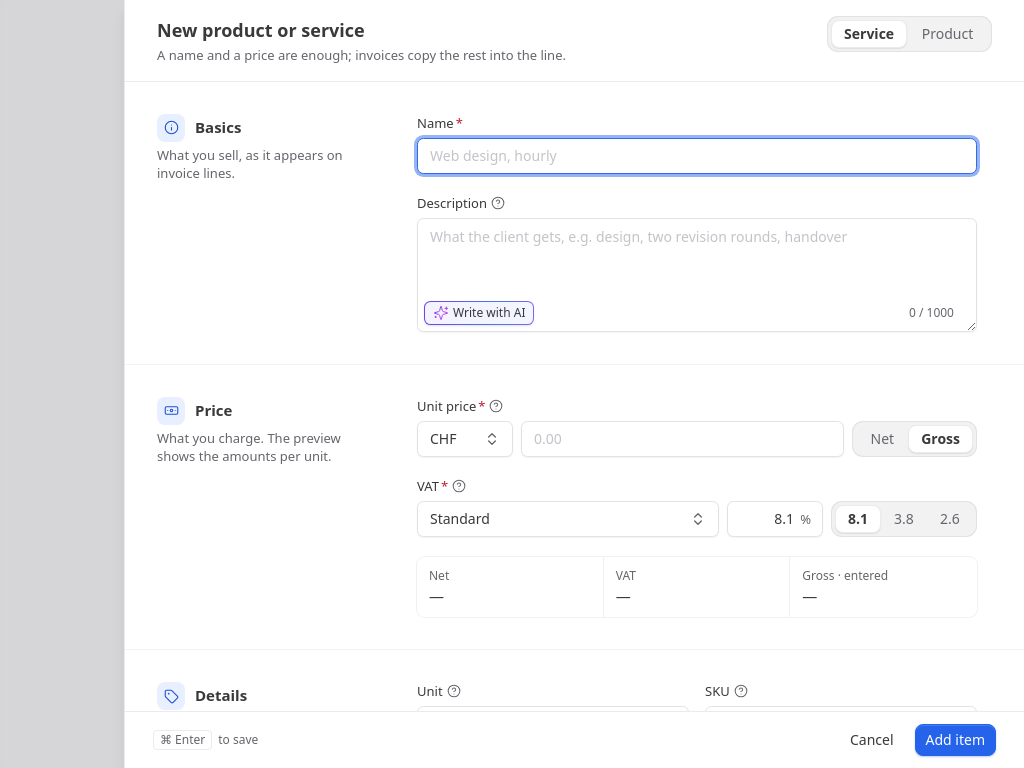
Test: a new item is priced gross: previews the net part while typing and saves with ⌘Enter
The width and height of the screenshot is (1024, 768).
Later steps or results of the test are not shown.
Type "Web design" into the field labelled "Name". click: x=697, y=156
box: [417, 138, 977, 174]
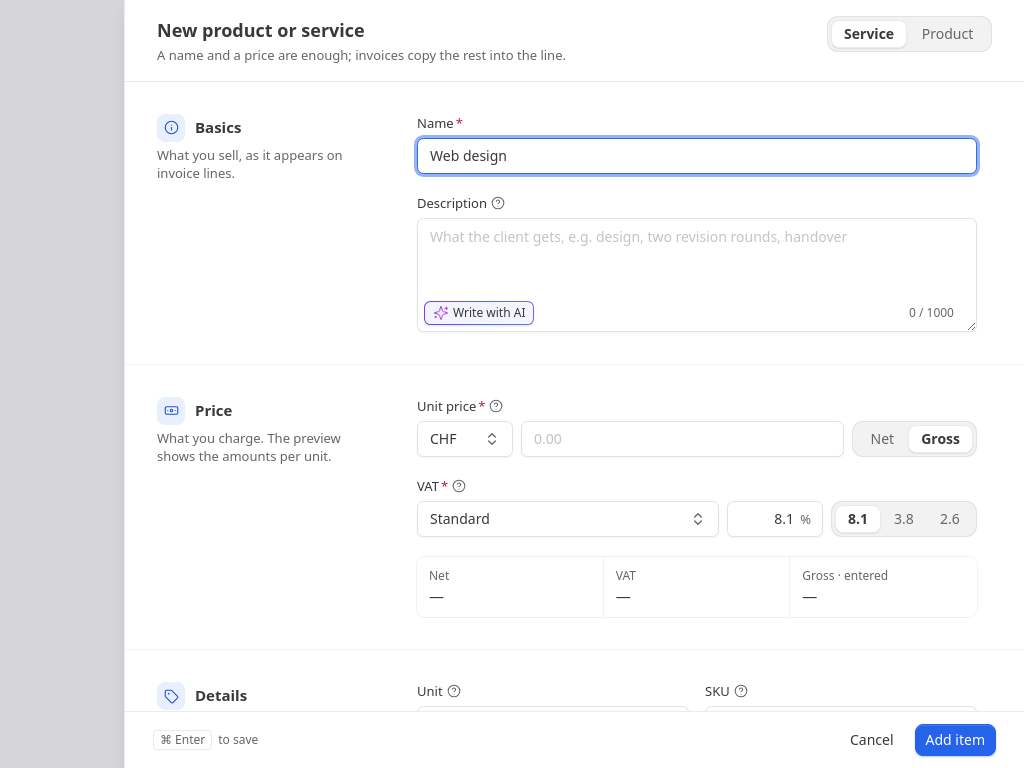
Expected: the radio button labelled "Gross" is checked, [908, 425, 973, 453]
Type "150" into the field labelled "Unit price*". click: x=683, y=439
box: [521, 421, 844, 457]
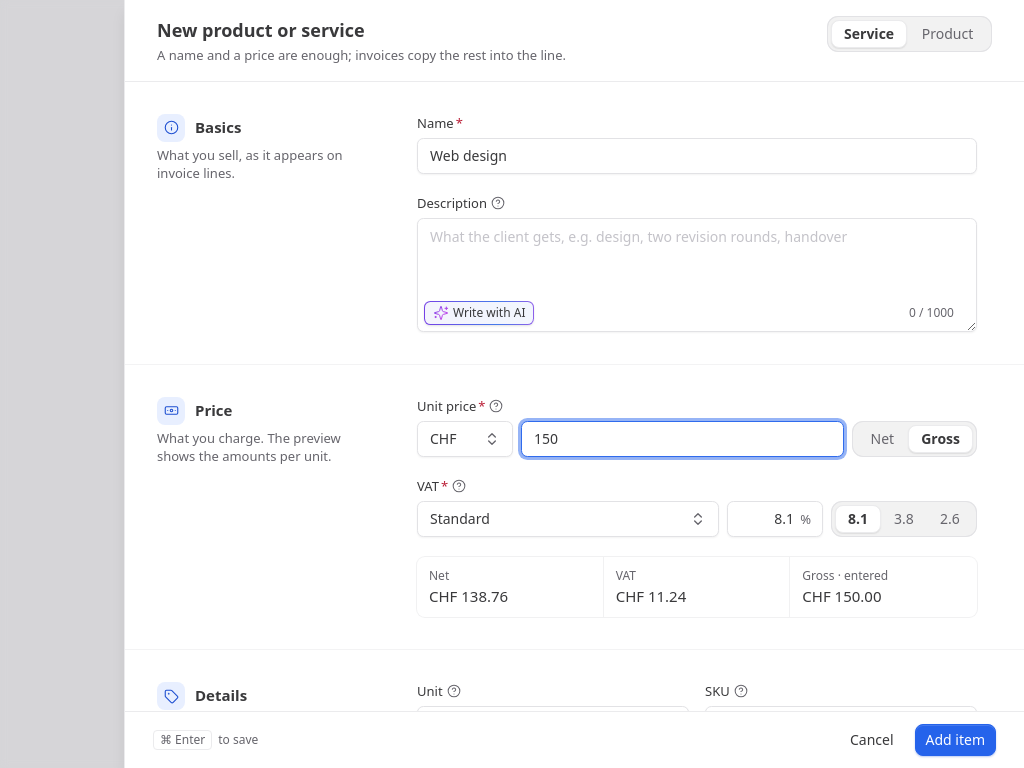
Now the element named "Price per unit" shows "CHF 138.76", box [429, 586, 508, 606]
Now the element named "Price per unit" shows "CHF 11.24", box [616, 586, 686, 606]
Now the element named "Price per unit" shows "CHF 150.00", box [802, 586, 882, 606]
